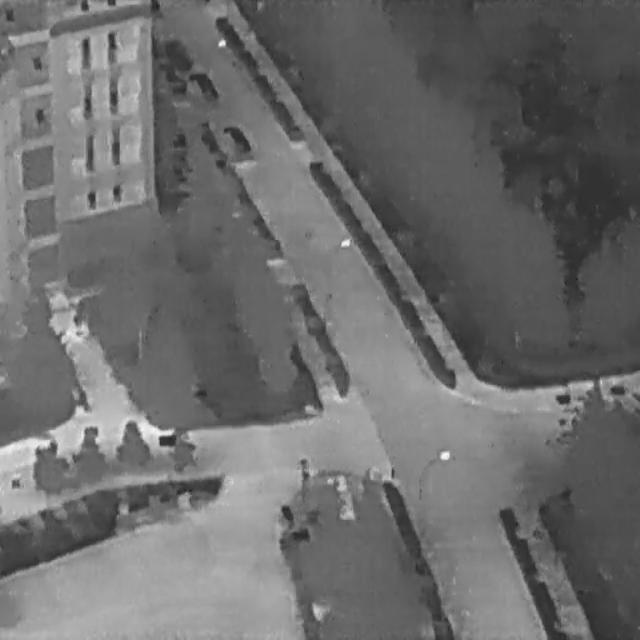Car: (216, 112, 256, 168), (184, 60, 222, 111)
